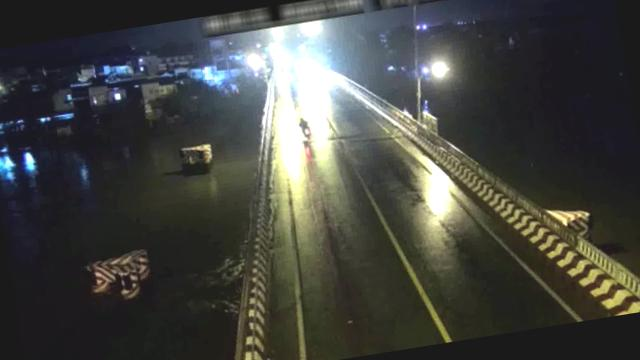Bike: (296, 114, 315, 142)
